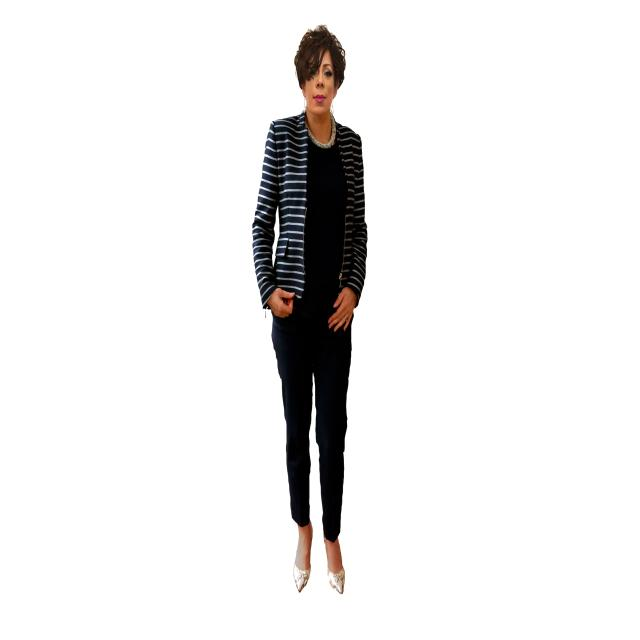jovem: (242, 22, 399, 599)
